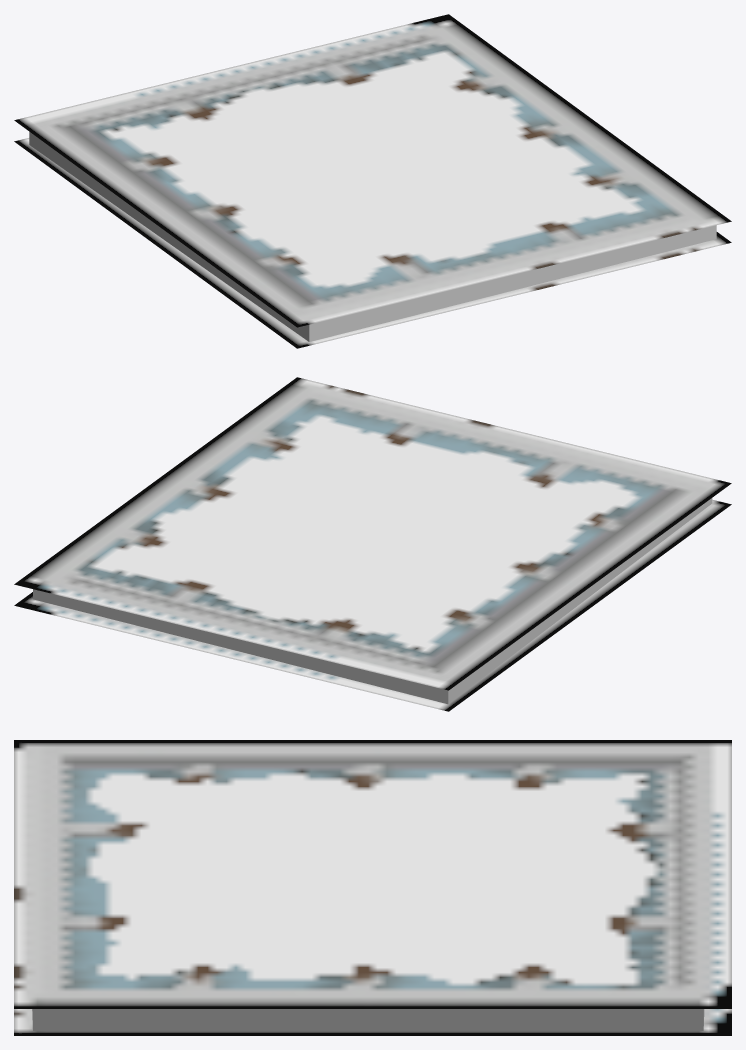
The model's file is pz_native_fixtures_windows_white_85_frame.obj.
The picture shows the model from 3 angles, top to bottom: view 1: azimuth 30°, elevation 25°; view 2: azimuth 150°, elevation 25°; view 3: azimuth 270°, elevation 25°; orthographic projection. The views are drawn at different scales.
Visible parts, largest first — view 1: pz_native_fixtures_windows_white_85_frame; view 2: pz_native_fixtures_windows_white_85_frame; view 3: pz_native_fixtures_windows_white_85_frame.
Part boxes in pixels (x1,y1,x2,y2): pz_native_fixtures_windows_white_85_frame: [14, 14, 731, 348]; pz_native_fixtures_windows_white_85_frame: [14, 377, 731, 711]; pz_native_fixtures_windows_white_85_frame: [14, 740, 731, 1035].
Size of the model in its own units: 0.8594 by 0.04 by 0.9696.
1 material, 1 textured.
